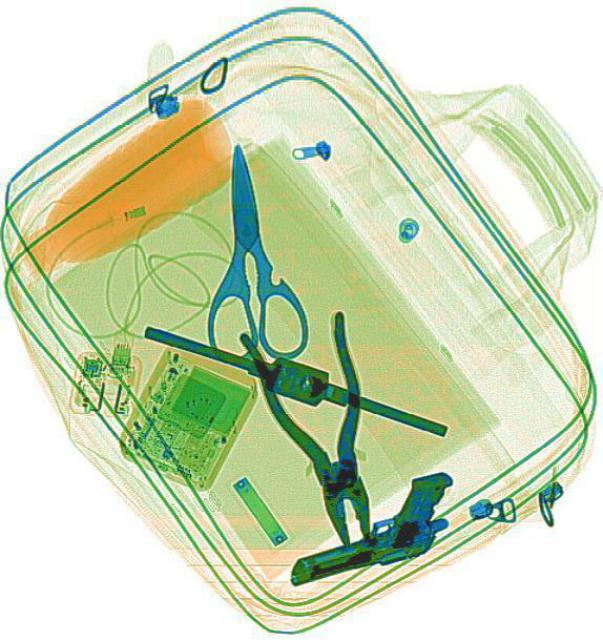Gun: (272, 470, 465, 584)
Pliers: (238, 309, 397, 559)
Scissors: (184, 140, 307, 368)
